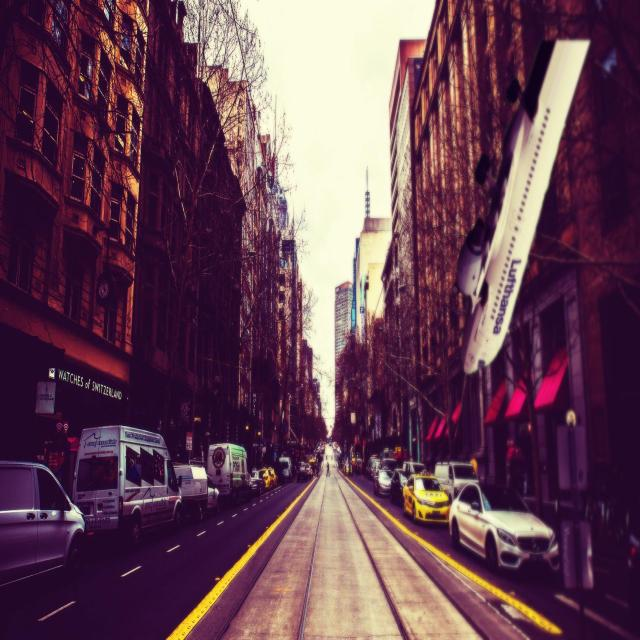airplane: (454, 36, 591, 376)
